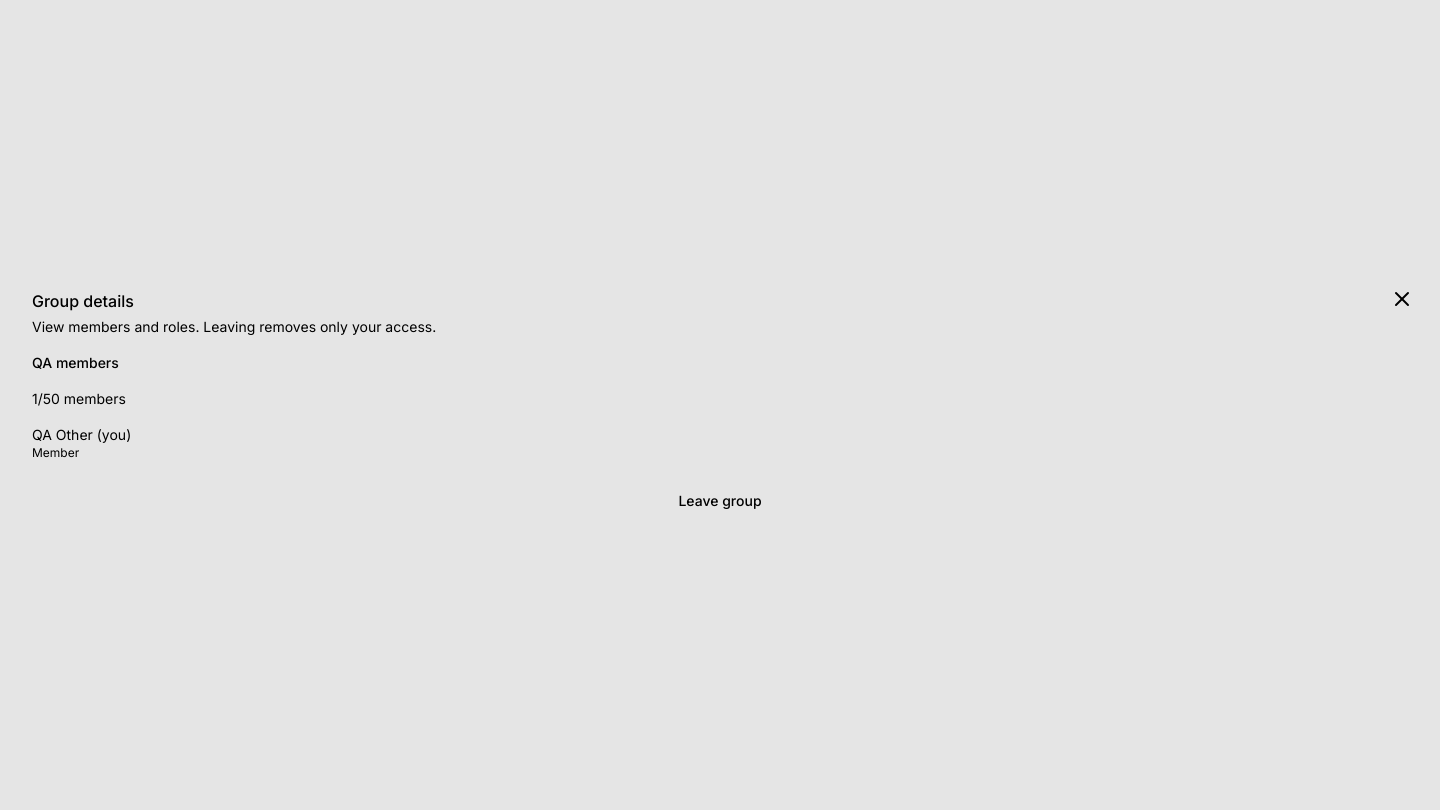
Test case: ordinary members can leave but cannot see admin controls, and a failed leave retains details
Expected: the text "Member" is shown, x1=32 y1=445 x2=79 y2=460
Click the button "Leave group" at (720, 501), box x1=32 y1=485 x2=1408 y2=517
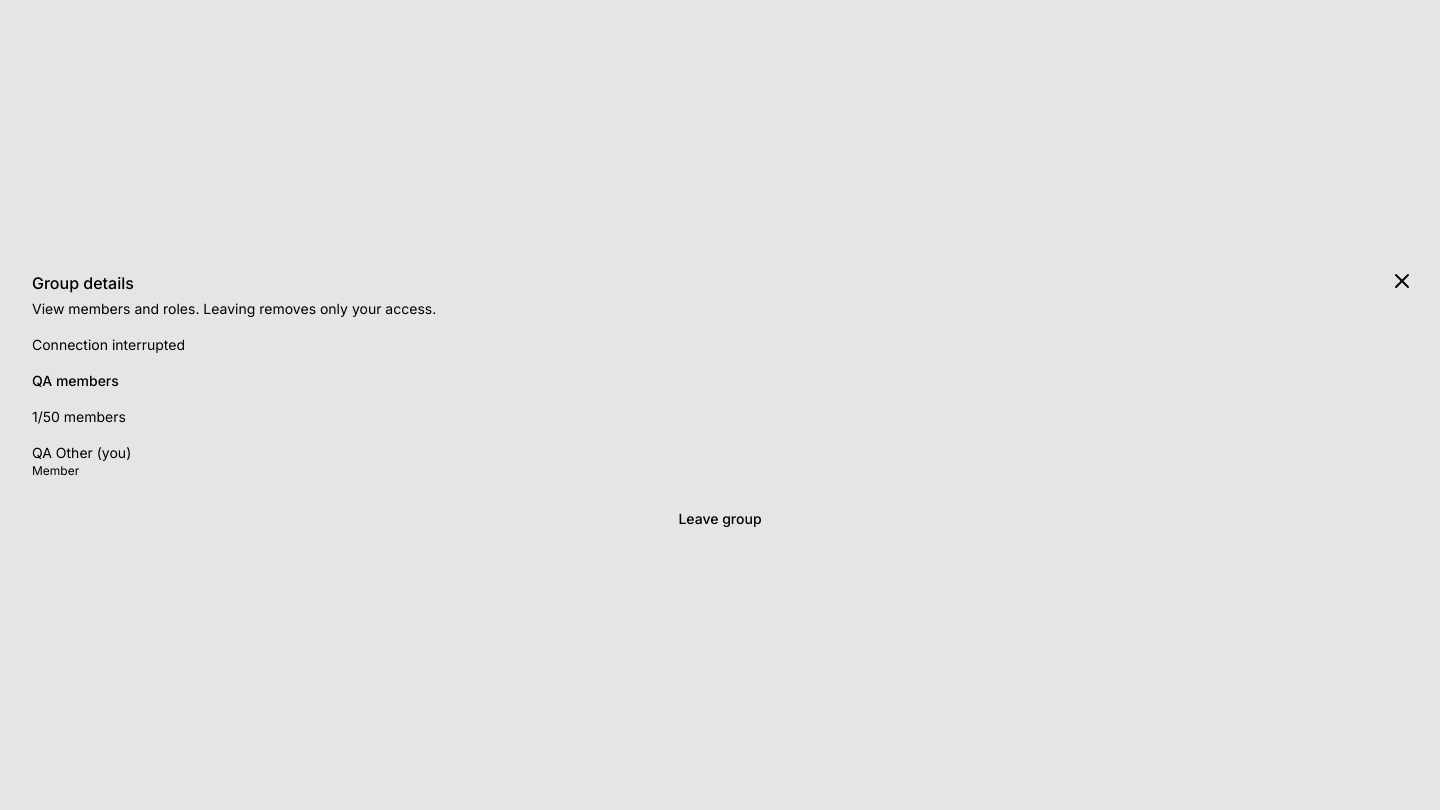
Expected: the dialog is shown, x1=16 y1=259 x2=1424 y2=551
Expected: the text "Connection interrupted" is shown, x1=32 y1=336 x2=185 y2=353
